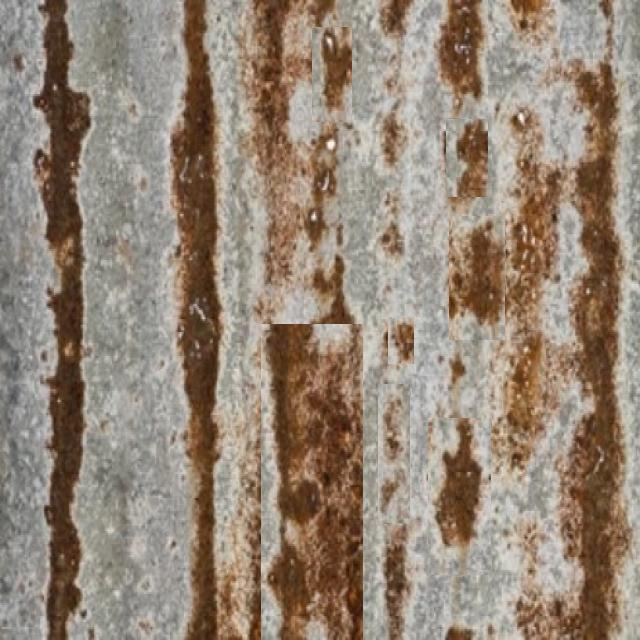Corrosion: (519, 60, 627, 640), (33, 0, 90, 640), (171, 0, 222, 640), (271, 325, 363, 640), (256, 0, 316, 286), (442, 0, 485, 108), (321, 26, 352, 108)
